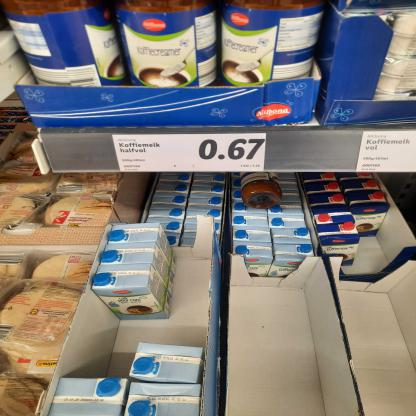prtg: (114, 134, 267, 173), (356, 131, 416, 173)
